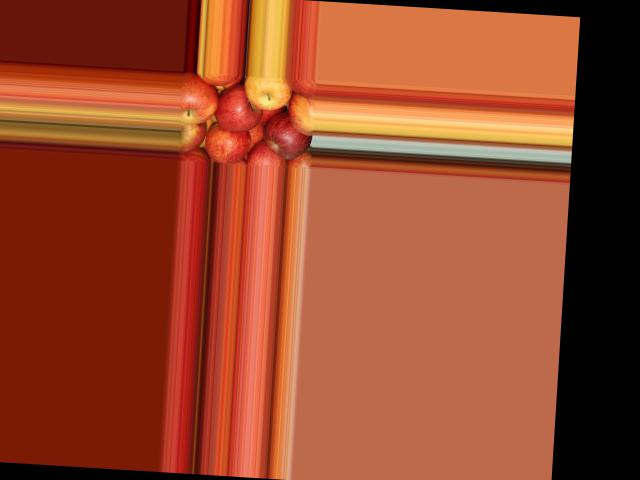apple: (203, 120, 255, 163)
